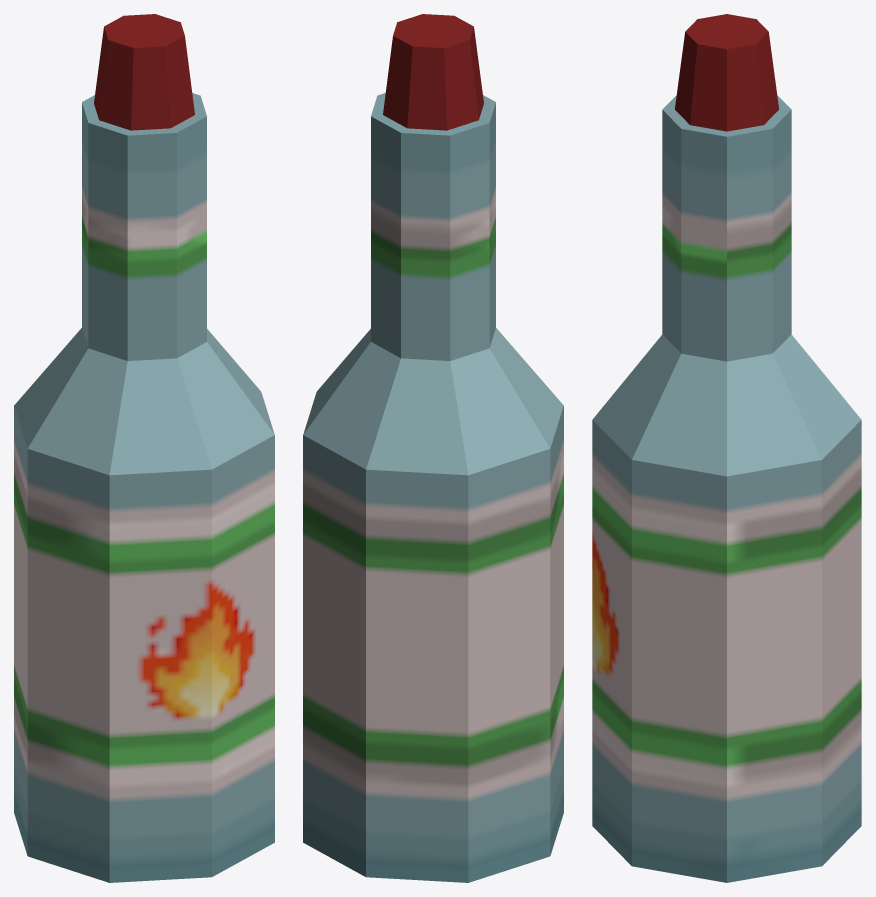
The model's file is HotsauceWaterBottleSM.fbx.
3 views of the same model, side by side, from view 1: azimuth 30°, elevation 25°; view 2: azimuth 150°, elevation 25°; view 3: azimuth 270°, elevation 25° (orthographic).
Parts seen in each view (by area): view 1: HOTSAUCE; view 2: HOTSAUCE; view 3: HOTSAUCE.
Part boxes in pixels (bbox=[...]): HOTSAUCE: bbox=[14, 14, 274, 882]; HOTSAUCE: bbox=[303, 14, 563, 882]; HOTSAUCE: bbox=[592, 14, 861, 882].
Size of the model in its own units: 3.66 by 11.92 by 3.66.
